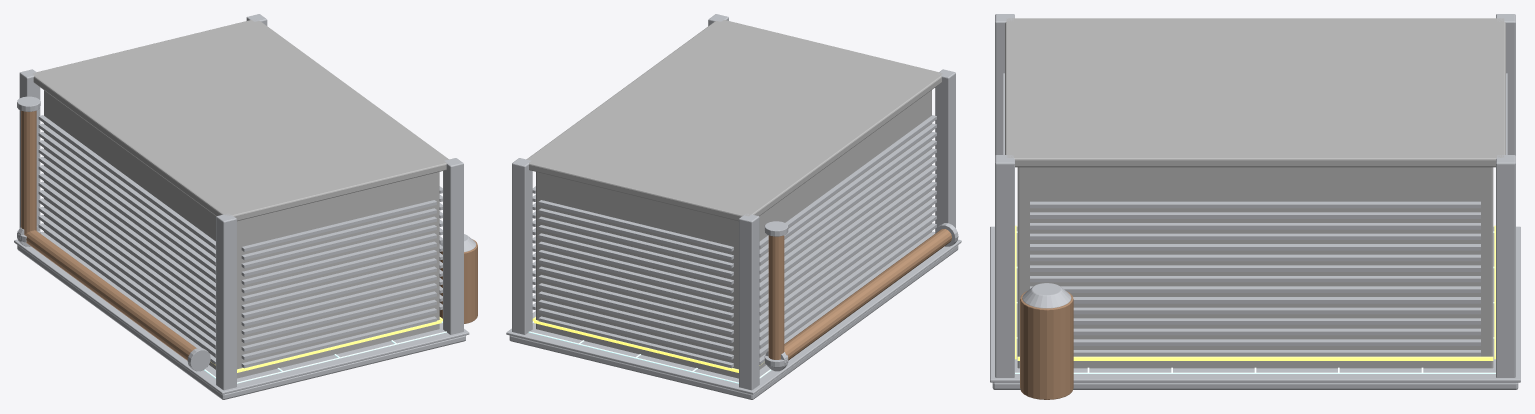
Rendered from mech_4x6_concrete.glb.
The picture shows the model from 3 angles, left to right: view 1: azimuth 30°, elevation 25°; view 2: azimuth 150°, elevation 25°; view 3: azimuth 270°, elevation 25°; orthographic projection. The views are drawn at different scales.
Visible parts, largest first — view 1: int_ceiling, ext_core, ext_louver2, ext_louver3, int_columns, int_slab_edge, ext_bigpipe, int_slab, ext_bigpipe2, ext_tank, ext_mech_glow, int_grid (+2 smaller); view 2: int_ceiling, ext_core, ext_louver2, ext_louver1, int_columns, int_slab_edge, ext_bigpipe, int_slab, ext_bigpipe2, ext_mech_glow, int_grid; view 3: int_ceiling, ext_core, ext_louver0, int_columns, int_slab_edge, ext_tank, int_slab, ext_mech_glow, ext_tank_cap, int_grid.
Part boxes in pixels (bbox=[...]): int_ceiling: bbox=[32, 19, 448, 221]; ext_core: bbox=[44, 90, 439, 378]; ext_louver2: bbox=[38, 115, 215, 364]; ext_louver3: bbox=[241, 200, 436, 368]; int_columns: bbox=[19, 14, 463, 390]; int_slab_edge: bbox=[14, 239, 469, 394]; ext_bigpipe: bbox=[24, 230, 196, 360]; int_slab: bbox=[17, 245, 465, 399]; ext_bigpipe2: bbox=[21, 110, 36, 234]; ext_tank: bbox=[439, 239, 477, 323]; ext_mech_glow: bbox=[211, 317, 442, 372]; int_grid: bbox=[204, 321, 446, 383]; int_ceiling: bbox=[526, 20, 942, 221]; ext_core: bbox=[536, 90, 931, 378]; ext_louver2: bbox=[759, 115, 936, 364]; ext_louver1: bbox=[538, 200, 733, 368]; int_columns: bbox=[512, 14, 955, 390]; int_slab_edge: bbox=[506, 239, 961, 394]; ext_bigpipe: bbox=[784, 229, 951, 360]; int_slab: bbox=[509, 245, 958, 399]; ext_bigpipe2: bbox=[768, 235, 784, 359]; ext_mech_glow: bbox=[532, 317, 762, 372]; int_grid: bbox=[528, 321, 771, 383]; int_ceiling: bbox=[1005, 18, 1505, 167]; ext_core: bbox=[1017, 167, 1493, 368]; ext_louver0: bbox=[1030, 201, 1480, 356]; int_columns: bbox=[995, 14, 1515, 377]; int_slab_edge: bbox=[990, 226, 1520, 382]; ext_tank: bbox=[1020, 291, 1073, 399]; int_slab: bbox=[992, 382, 1518, 389]; ext_mech_glow: bbox=[1015, 225, 1495, 360]; ext_tank_cap: bbox=[1022, 283, 1071, 308]; int_grid: bbox=[1015, 231, 1495, 373].
Bounding box in the file's own units: 5.1 × 3 × 6.36.
